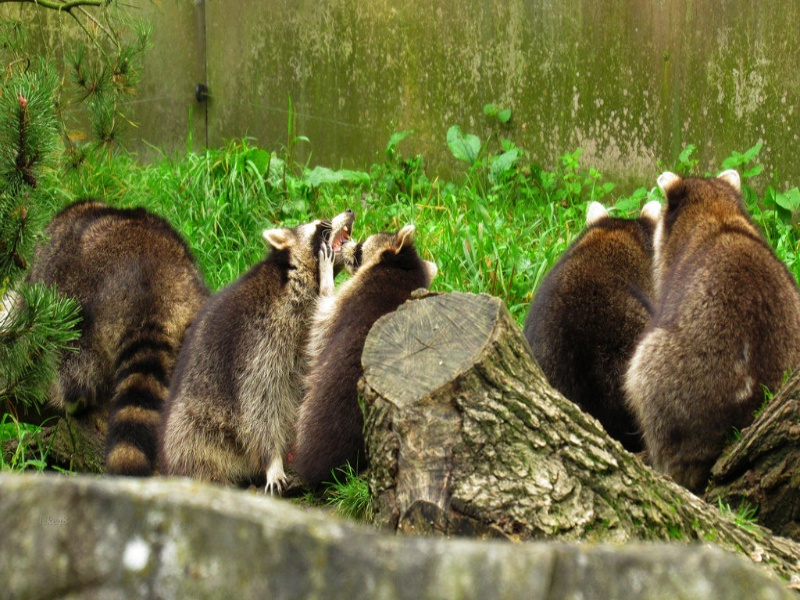raccoon: (20, 185, 208, 497), (158, 204, 359, 490), (632, 166, 800, 475), (274, 222, 447, 501), (522, 200, 660, 462)
